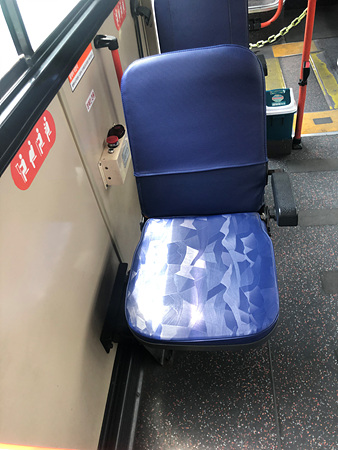seat: (115, 51, 276, 336)
